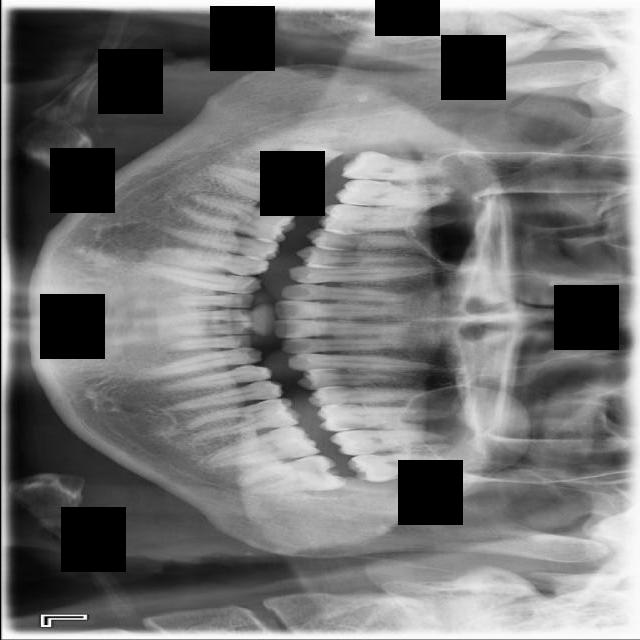3M ESPE Implant: (340, 150, 449, 183)
73: (46, 610, 64, 618)
BioHorizons Implant: (327, 428, 453, 457)
BioLife Implant: (347, 453, 452, 484)
Biomet 3i Implant: (234, 452, 346, 497)
Blue Sky Bio Implant: (197, 420, 321, 473)
Caries: (333, 178, 454, 211)
Implant: (203, 162, 323, 218)
Keystone Dental Implant: (276, 137, 343, 187)
